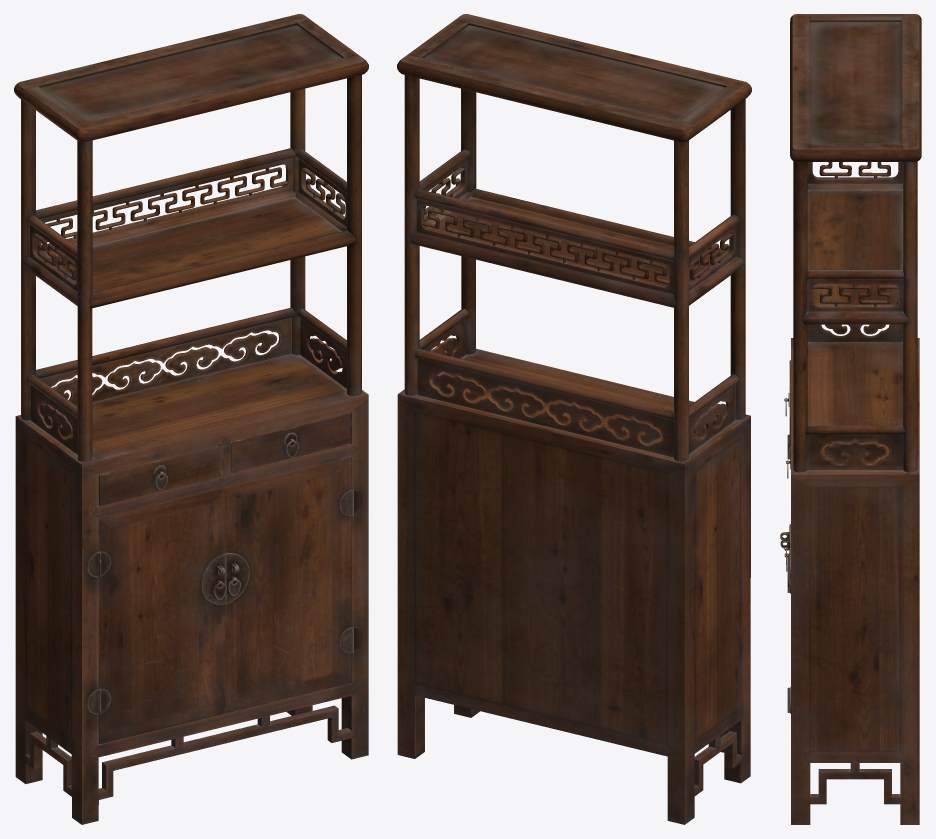
Rendered from chinese_cabinet_1k.gltf.
3 renders of one model, left to right at view 1: azimuth 30°, elevation 25°; view 2: azimuth 150°, elevation 25°; view 3: azimuth 270°, elevation 25°, orthographic. The views are drawn at different scales.
Visible parts, largest first — view 1: chinese_cabinet; view 2: chinese_cabinet; view 3: chinese_cabinet.
Part boxes in pixels (x1,y1,x2,y2): chinese_cabinet: (14,14,368,824); chinese_cabinet: (397,14,751,824); chinese_cabinet: (780,14,921,824).
Bounding box in the file's own units: 1.26 × 2.87 × 0.5452.
1 material, 1 textured.
